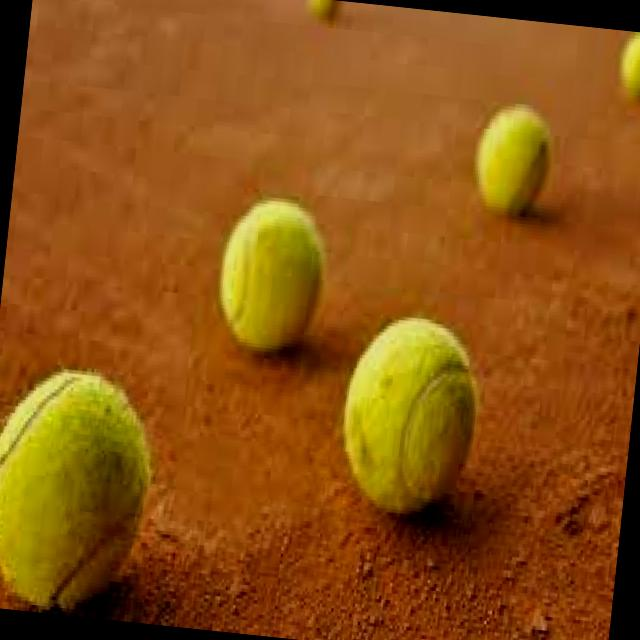Tennis Ball: (0, 369, 152, 616), (338, 316, 482, 518), (215, 197, 327, 358), (472, 103, 553, 219), (616, 31, 640, 104), (303, 0, 345, 24)
